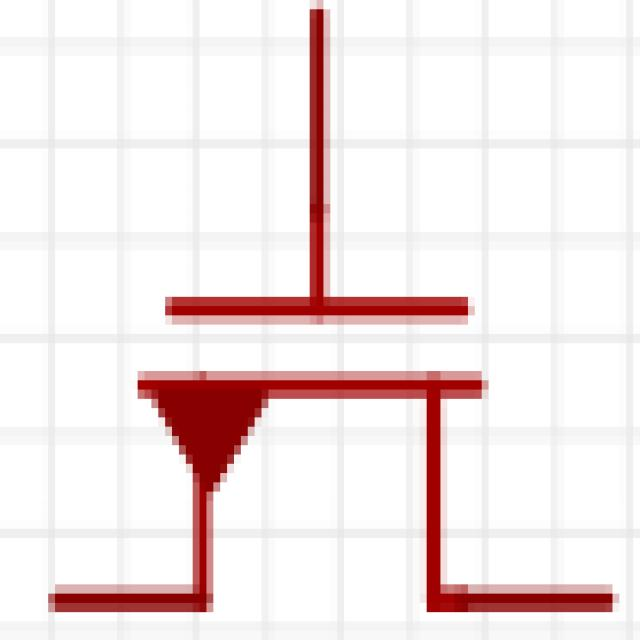nmos: (33, 14, 614, 640)
